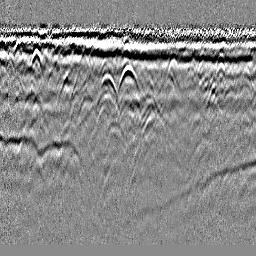cavity: (117, 62, 141, 95)
